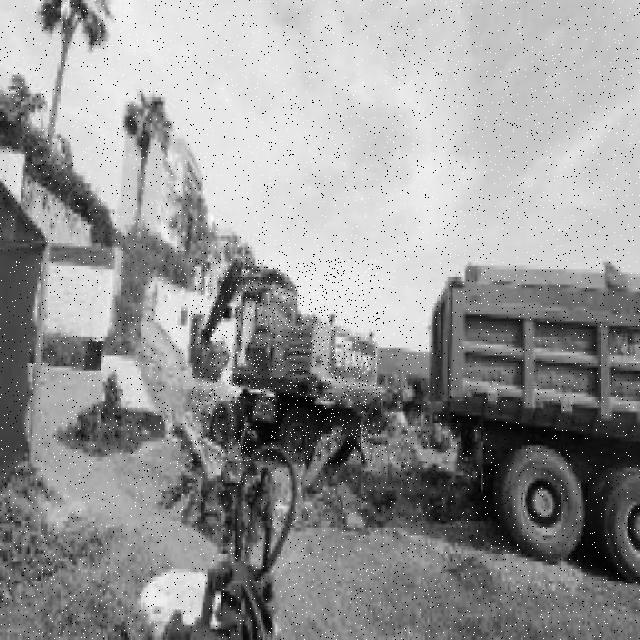Construction Equipment: (191, 260, 380, 461)
